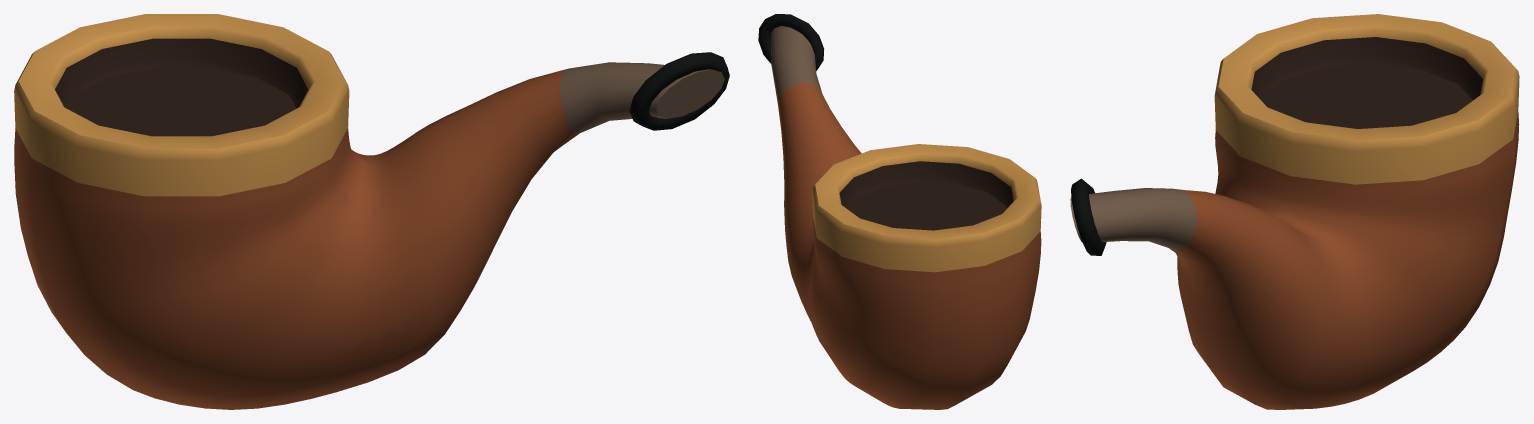
Rendered from Cosmetic_Detective_Pipe.glb.
3 renders of one model, left to right at view 1: azimuth 30°, elevation 25°; view 2: azimuth 150°, elevation 25°; view 3: azimuth 270°, elevation 25°, orthographic. The views are drawn at different scales.
Visible parts, largest first — view 1: Detective_Pipe; view 2: Detective_Pipe; view 3: Detective_Pipe.
Part boxes in pixels (x1=…): Detective_Pipe: x1=14, y1=14, x2=729, y2=409; Detective_Pipe: x1=758, y1=14, x2=1041, y2=409; Detective_Pipe: x1=1070, y1=14, x2=1519, y2=409.
Size of the model in its own units: 0.2437 by 0.1612 by 0.1913.
